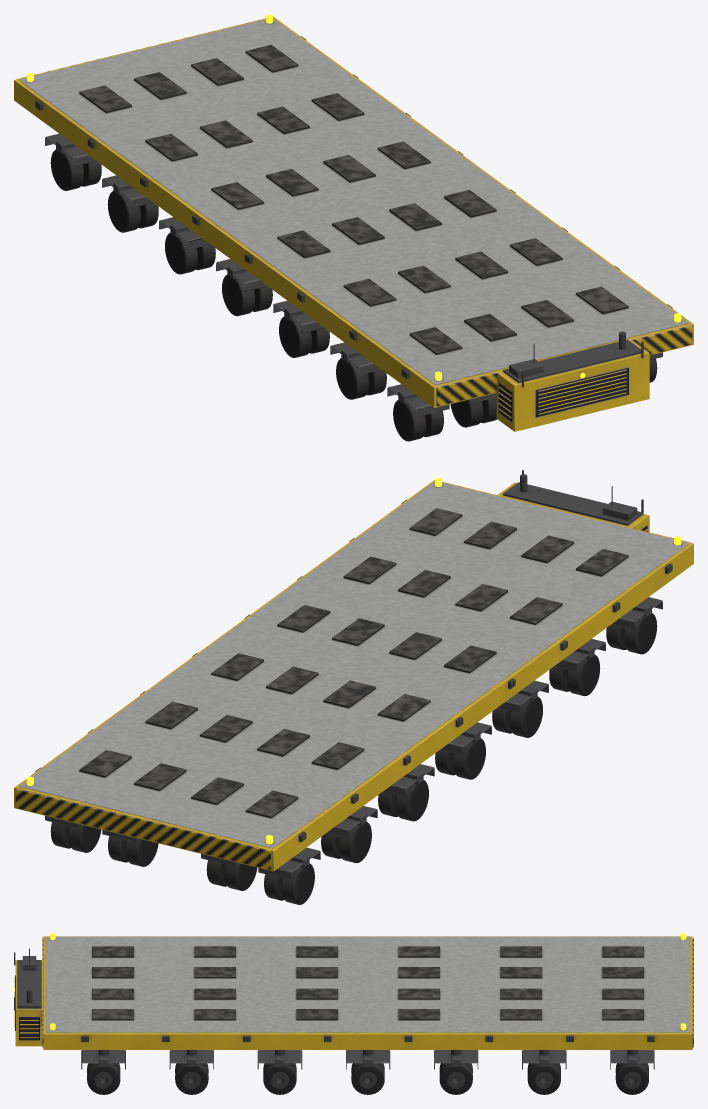
Rendered from SPMT.fbx.
3 views of the same model, one above another, from view 1: azimuth 30°, elevation 25°; view 2: azimuth 150°, elevation 25°; view 3: azimuth 270°, elevation 25° (orthographic). The views are drawn at different scales.
Visible parts, largest first — view 1: Lift_LOD0, Body_LOD0, Wheel_1_1_LOD0, Wheel_3_1_LOD0, Wheel_7_1_LOD0, Wheel_6_1_LOD0, Wheel_4_1_LOD0, Wheel_5_1_LOD0, Wheel_2_1_LOD0, Wheel_1_2_LOD0; view 2: Lift_LOD0, Body_LOD0, Wheel_7_1_LOD0, Wheel_2_1_LOD0, Wheel_3_1_LOD0, Wheel_1_1_LOD0, Wheel_4_1_LOD0, Wheel_6_1_LOD0, Wheel_5_1_LOD0, Wheel_7_2_LOD0, Wheel_7_3_LOD0, Wheel_7_4_LOD0; view 3: Lift_LOD0, Body_LOD0, Wheel_3_4_LOD0, Wheel_4_4_LOD0, Wheel_2_4_LOD0, Wheel_5_4_LOD0, Wheel_1_4_LOD0, Wheel_7_4_LOD0, Wheel_6_4_LOD0.
Part boxes in pixels (left/top/right/bottom): Lift_LOD0: left=14, top=14, right=693, bottom=431; Body_LOD0: left=45, top=133, right=662, bottom=416; Wheel_1_1_LOD0: left=393, top=400, right=443, bottom=441; Wheel_3_1_LOD0: left=279, top=316, right=329, bottom=357; Wheel_7_1_LOD0: left=50, top=149, right=101, bottom=190; Wheel_6_1_LOD0: left=107, top=191, right=158, bottom=232; Wheel_4_1_LOD0: left=222, top=275, right=272, bottom=316; Wheel_5_1_LOD0: left=165, top=233, right=215, bottom=274; Wheel_2_1_LOD0: left=336, top=358, right=386, bottom=399; Wheel_1_2_LOD0: left=450, top=397, right=496, bottom=427; Lift_LOD0: left=14, top=470, right=693, bottom=871; Body_LOD0: left=45, top=597, right=662, bottom=880; Wheel_7_1_LOD0: left=264, top=863, right=314, bottom=904; Wheel_2_1_LOD0: left=549, top=654, right=600, bottom=696; Wheel_3_1_LOD0: left=492, top=696, right=542, bottom=737; Wheel_1_1_LOD0: left=606, top=613, right=657, bottom=654; Wheel_4_1_LOD0: left=435, top=738, right=485, bottom=779; Wheel_6_1_LOD0: left=321, top=822, right=371, bottom=863; Wheel_5_1_LOD0: left=378, top=780, right=428, bottom=821; Wheel_7_2_LOD0: left=206, top=860, right=257, bottom=890; Wheel_7_3_LOD0: left=108, top=836, right=158, bottom=866; Wheel_7_4_LOD0: left=50, top=822, right=101, bottom=852; Lift_LOD0: left=14, top=933, right=693, bottom=1049; Body_LOD0: left=81, top=1050, right=654, bottom=1078; Wheel_3_4_LOD0: left=263, top=1063, right=296, bottom=1094; Wheel_4_4_LOD0: left=351, top=1063, right=384, bottom=1094; Wheel_2_4_LOD0: left=175, top=1063, right=208, bottom=1094; Wheel_5_4_LOD0: left=439, top=1063, right=472, bottom=1094; Wheel_1_4_LOD0: left=87, top=1063, right=120, bottom=1094; Wheel_7_4_LOD0: left=615, top=1063, right=648, bottom=1094; Wheel_6_4_LOD0: left=527, top=1063, right=560, bottom=1094.
Size of what is drawn, in the model's own units: 5.12 by 2.05 by 14.66.
Materials: 1 (1 with a texture image).
